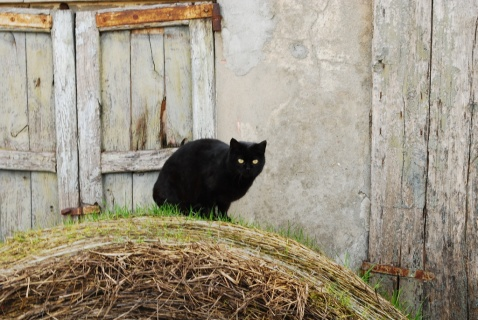Cat: (152, 136, 265, 221)
